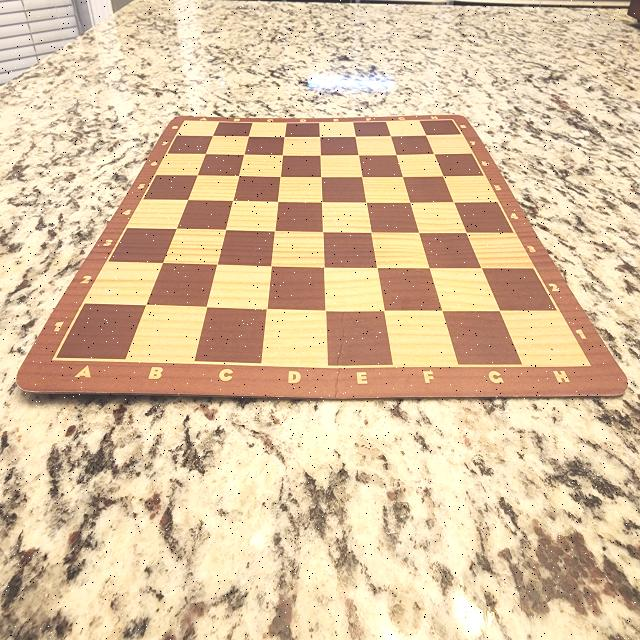Bottom-Left: (58, 306, 144, 361)
Bottom-Right: (504, 312, 590, 367)
Top-Left: (184, 120, 216, 138)
Top-Right: (421, 120, 464, 135)
